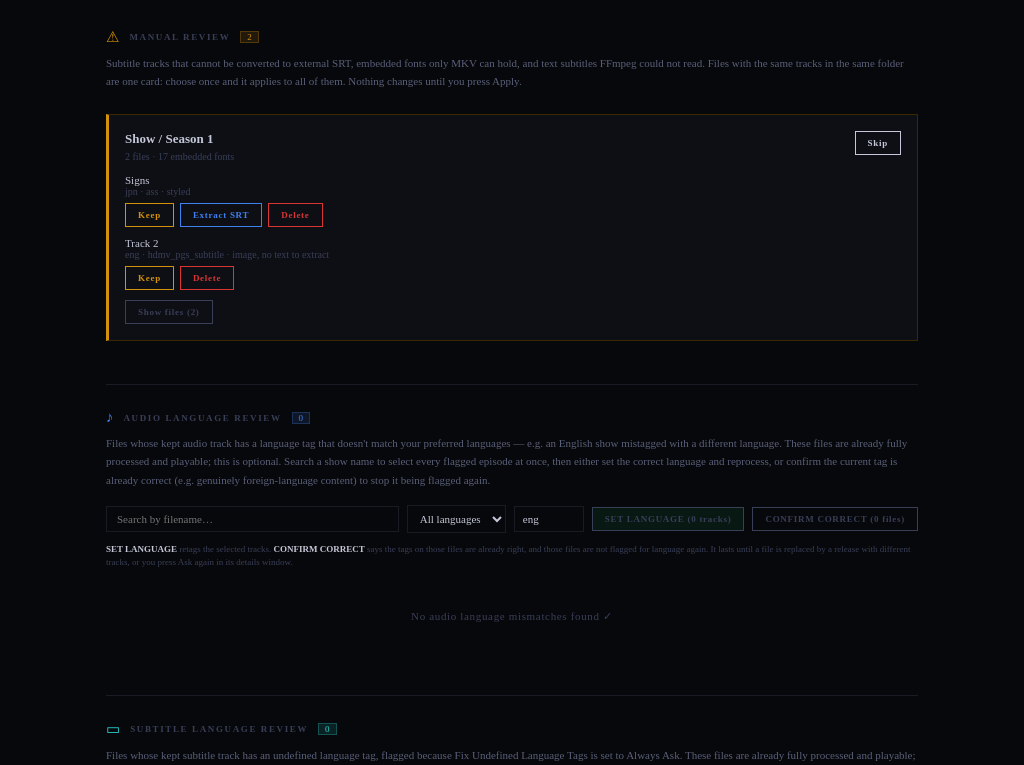
Test: the outcome line › takes the line down when a later preview fails
The width and height of the screenshot is (1024, 765).
Expected: the text "Show / Season 1" is shown, [125, 131, 214, 146]
Click the button "Delete" below "jpn · ass · styled": (295, 215) [268, 203, 323, 227]
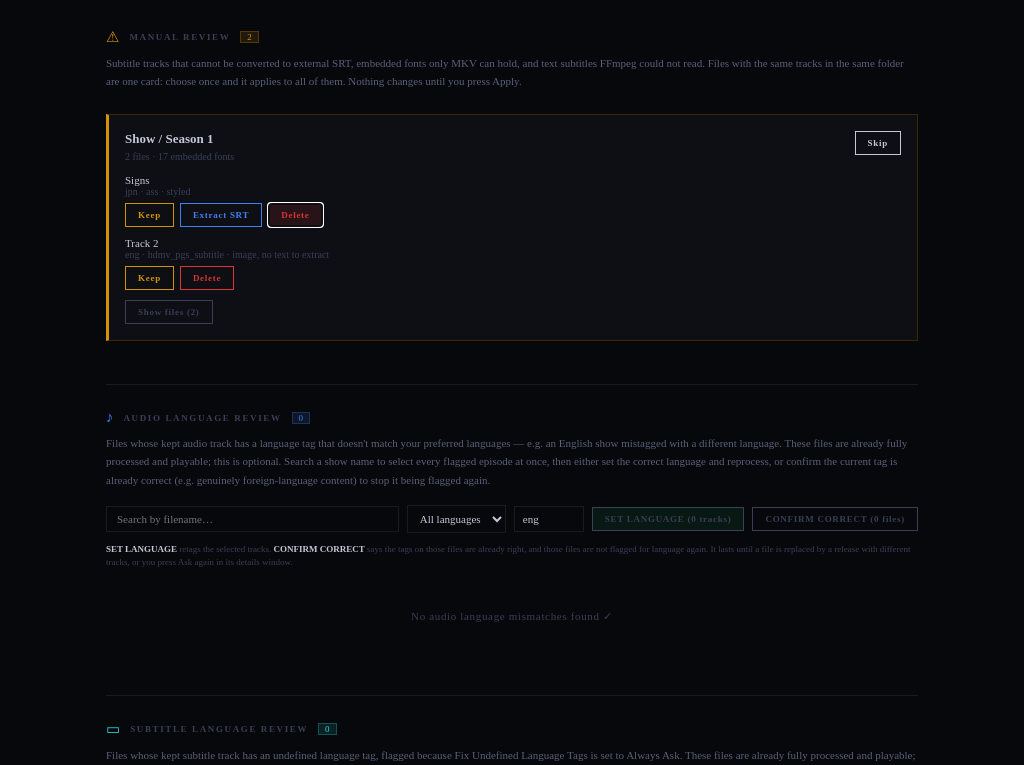
Click the button "Delete" below "Track 2": (207, 278) [180, 266, 234, 290]
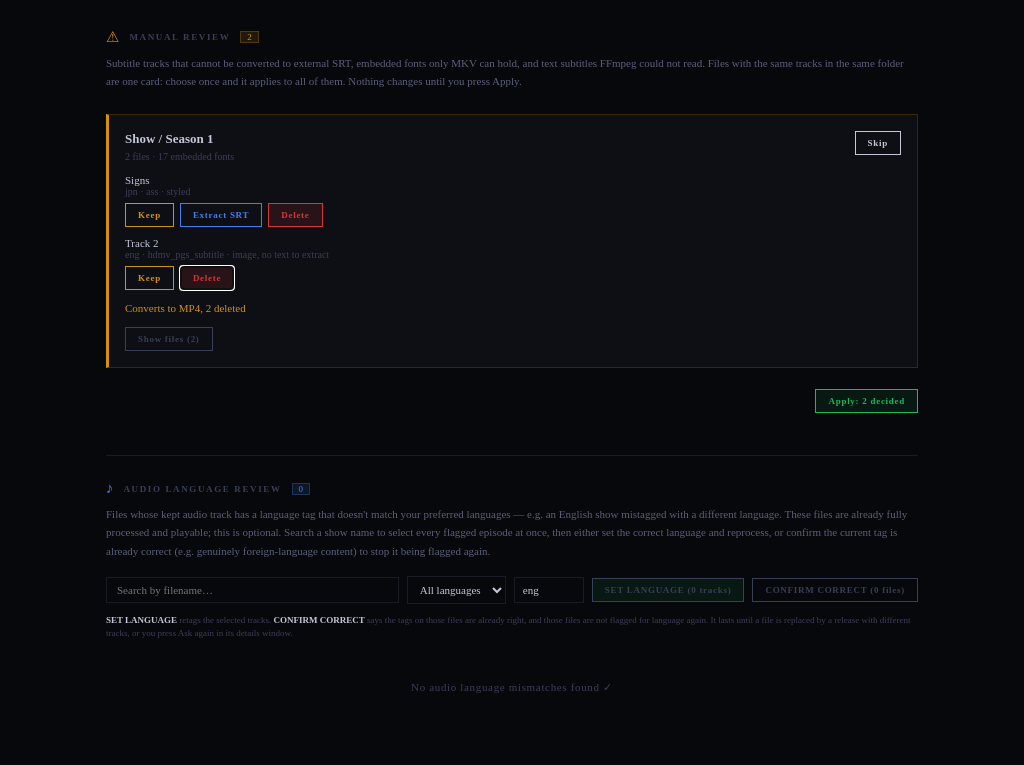
Expected: the text "Converts to MP4, 2 deleted" is shown, [125, 302, 246, 314]
Click the button "Keep" below "jpn · ass · styled": (149, 215) [125, 203, 174, 227]
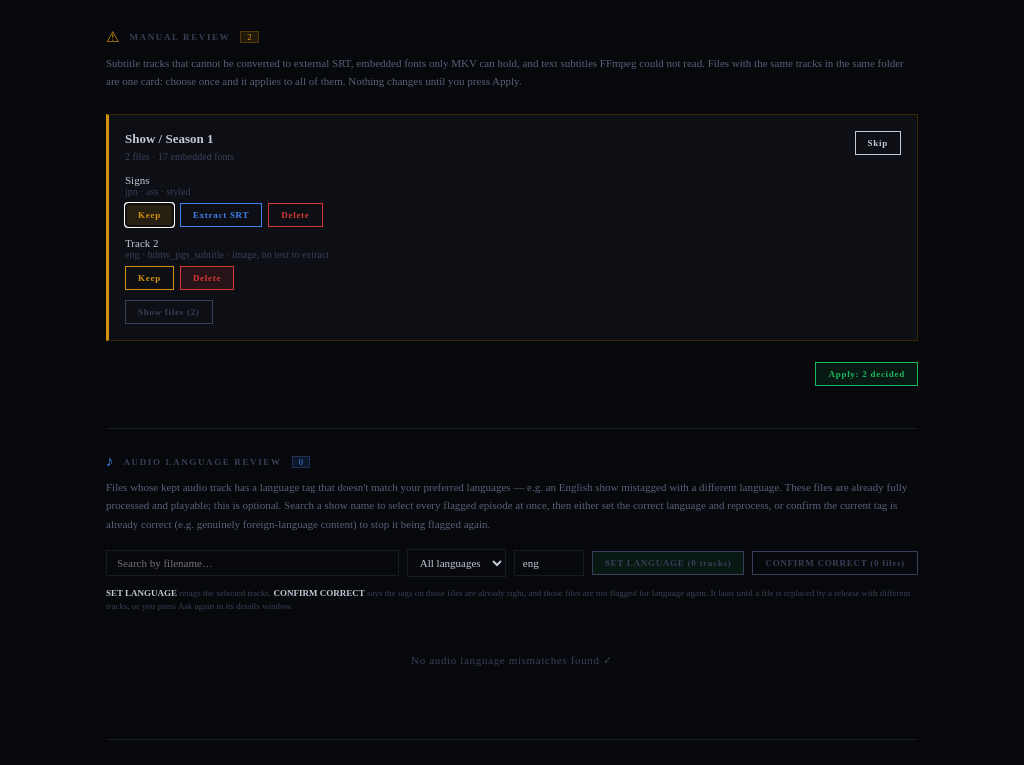
Expected: the text "Converts to MP4, 2 deleted" is gone
